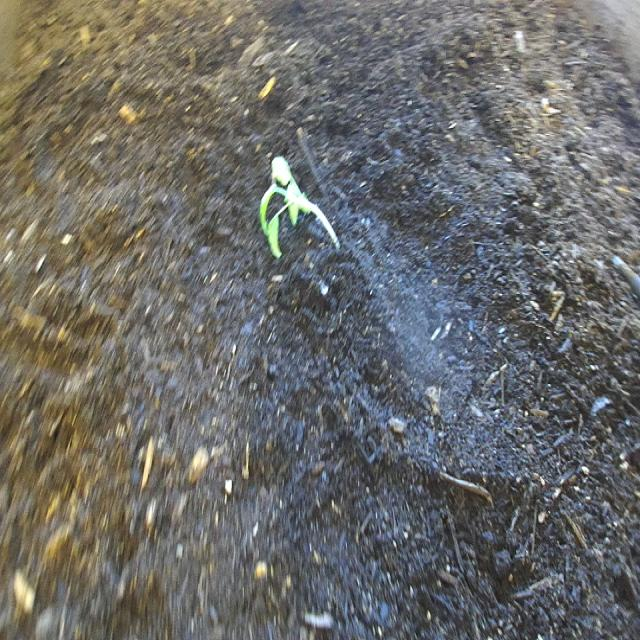Unhealthy: (245, 137, 352, 289)
